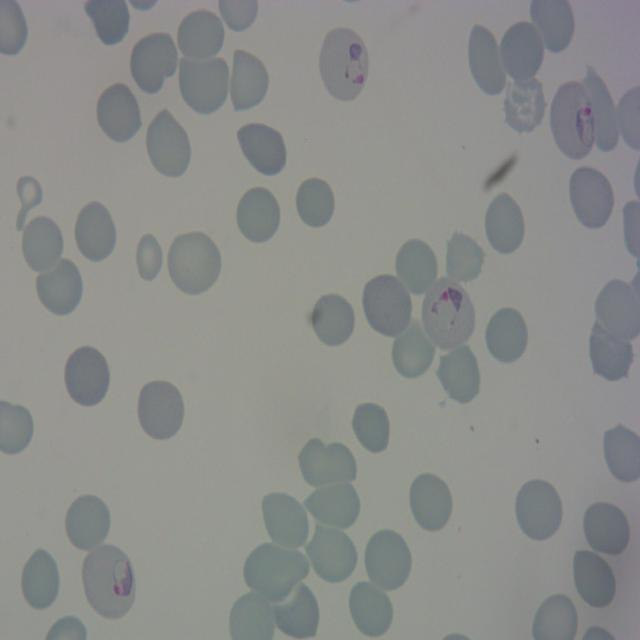leukocyte: (244, 541, 308, 603), (166, 229, 222, 298), (578, 69, 622, 153), (144, 108, 193, 180), (513, 476, 564, 544), (361, 272, 413, 338), (178, 51, 229, 117), (363, 527, 413, 594), (566, 164, 616, 231), (135, 377, 186, 442), (586, 319, 636, 385), (34, 254, 85, 318), (127, 30, 177, 95), (62, 344, 112, 409), (94, 80, 143, 146), (465, 21, 508, 96), (234, 120, 287, 180), (308, 524, 359, 586), (570, 548, 618, 612), (260, 491, 311, 551), (297, 436, 357, 487), (407, 471, 454, 535), (498, 20, 545, 84), (581, 500, 631, 560), (390, 318, 437, 381), (63, 493, 112, 553), (308, 290, 357, 350), (234, 185, 282, 246), (18, 547, 62, 613), (483, 191, 527, 257), (436, 343, 482, 406), (502, 74, 548, 137), (483, 305, 530, 366), (304, 481, 360, 530), (396, 236, 438, 300), (273, 583, 320, 640), (348, 579, 393, 638), (74, 200, 117, 261), (176, 8, 226, 60), (349, 400, 392, 456), (443, 230, 486, 286), (230, 50, 268, 112), (294, 175, 336, 230), (22, 217, 62, 266), (13, 173, 44, 232), (134, 232, 164, 283)
schizont: (80, 543, 136, 619), (422, 276, 476, 352), (317, 28, 368, 102), (550, 81, 596, 160)
